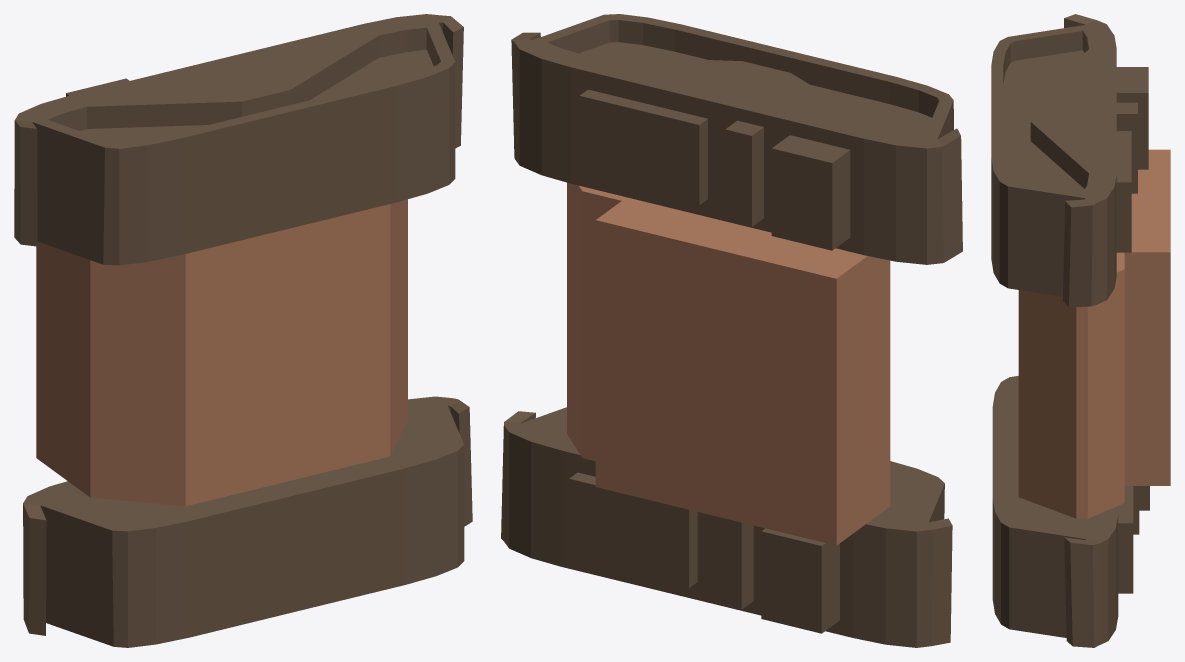
The model's file is Enemy02Body.fbx.
3 renders of one model, left to right at view 1: azimuth 30°, elevation 25°; view 2: azimuth 150°, elevation 25°; view 3: azimuth 270°, elevation 25°, orthographic. The views are drawn at different scales.
Parts seen in each view (by area): view 1: Body; view 2: Body; view 3: Body.
Part boxes in pixels (x1=…): Body: x1=14, y1=14, x2=472, y2=647; Body: x1=501, y1=14, x2=962, y2=647; Body: x1=991, y1=14, x2=1170, y2=647.
Size of the model in its own units: 220 by 237 by 86.45.
Materials: 1 (1 with a texture image).
